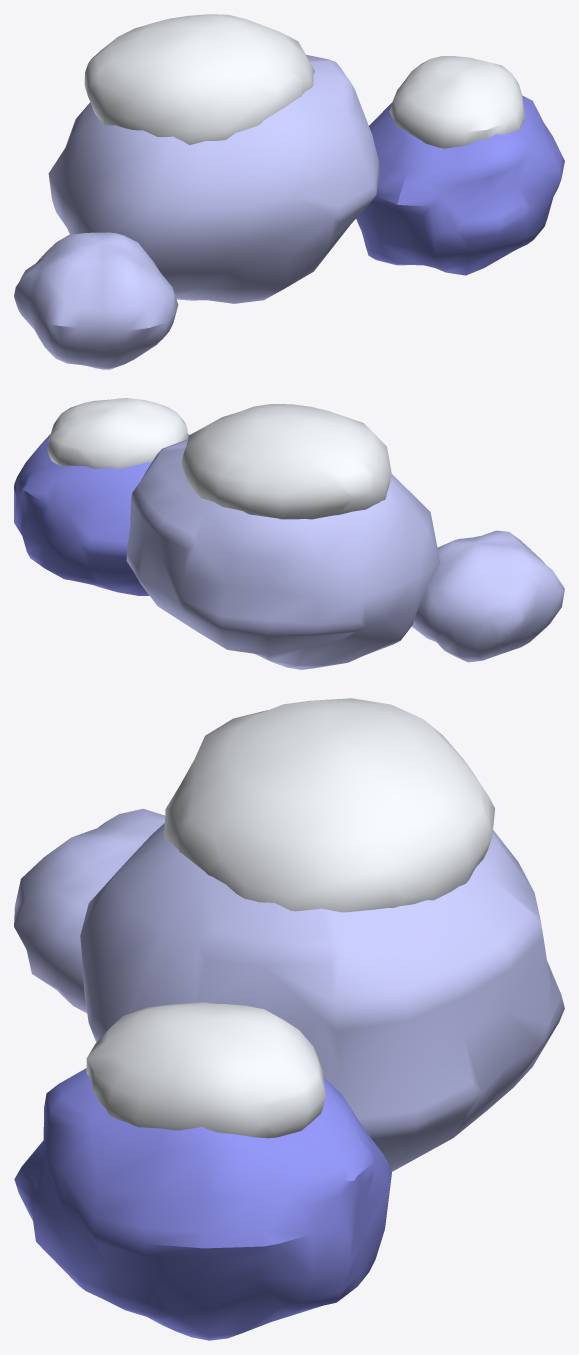
The model's file is SnowRockC.glb.
The picture shows the model from 3 angles, top to bottom: view 1: azimuth 30°, elevation 25°; view 2: azimuth 150°, elevation 25°; view 3: azimuth 270°, elevation 25°; orthographic projection. The views are drawn at different scales.
Parts seen in each view (by area): view 1: SnowRockC; view 2: SnowRockC; view 3: SnowRockC.
Boxes of the visible parts, bbox=[...] form: SnowRockC: bbox=[14, 14, 564, 369]; SnowRockC: bbox=[14, 398, 564, 669]; SnowRockC: bbox=[14, 698, 564, 1340].
Size of the model in its own units: 11.08 by 5.06 by 6.03.
1 material, 1 textured.
